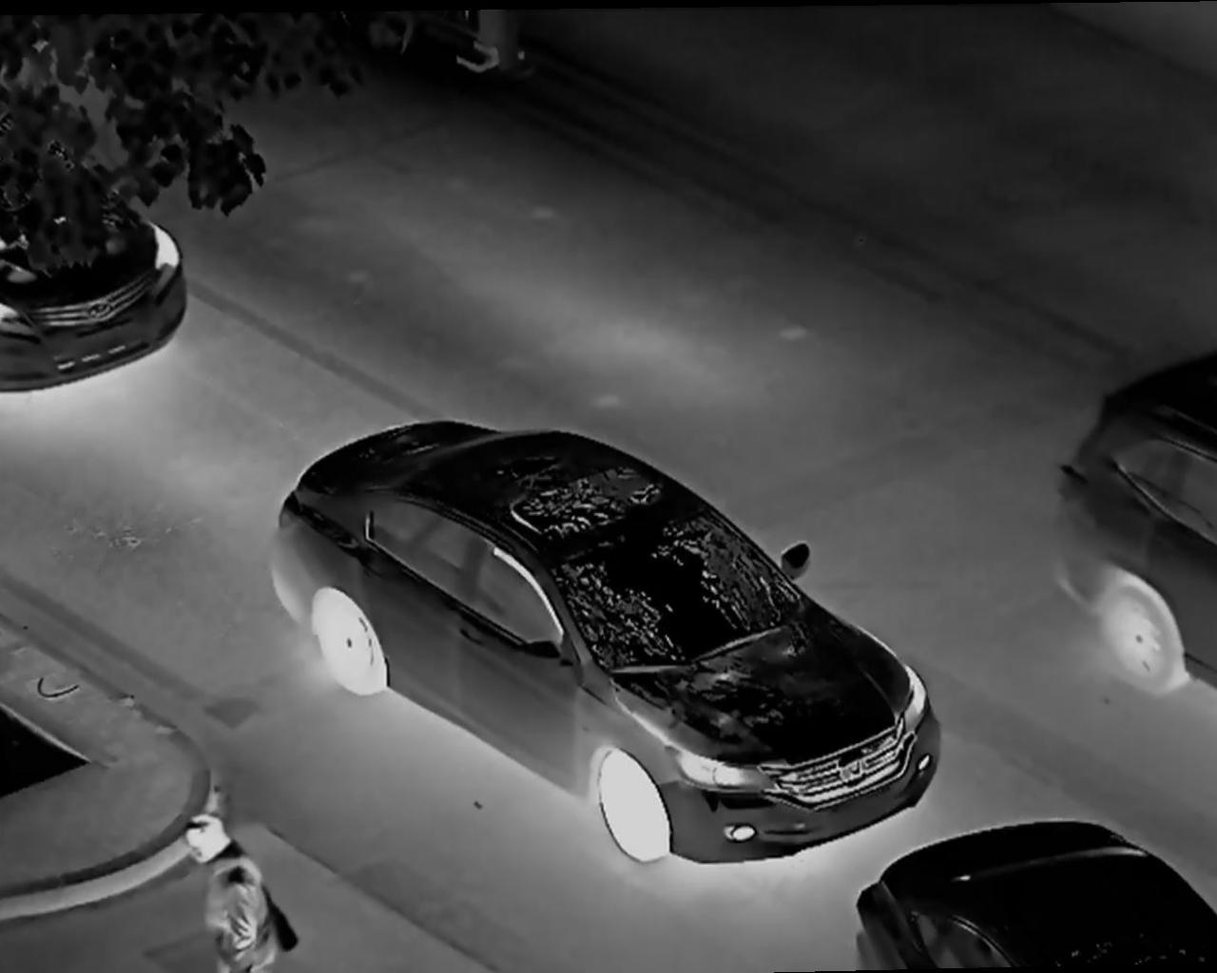person: (171, 813, 280, 973)
